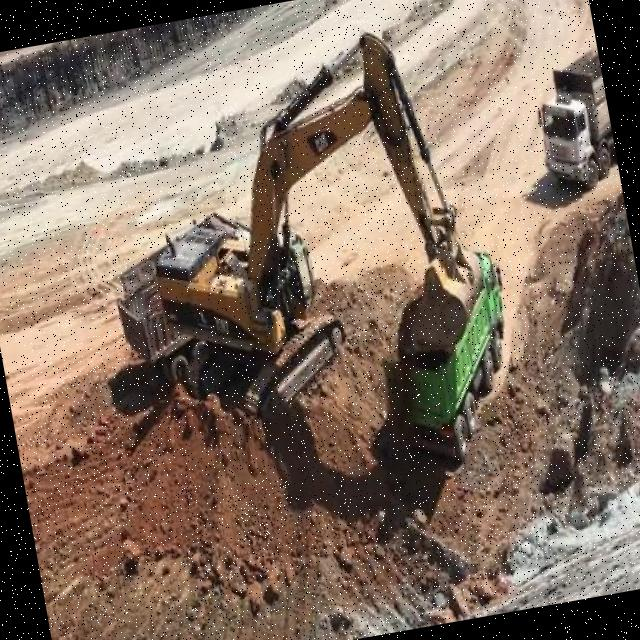Dump Truck: (362, 236, 530, 474), (107, 237, 211, 390), (525, 40, 621, 196)
Excavator: (112, 8, 486, 442)
